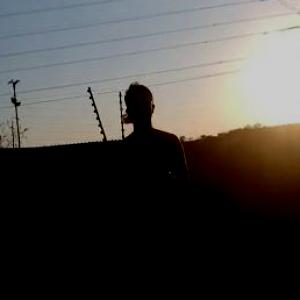follow: (108, 75, 194, 299)
